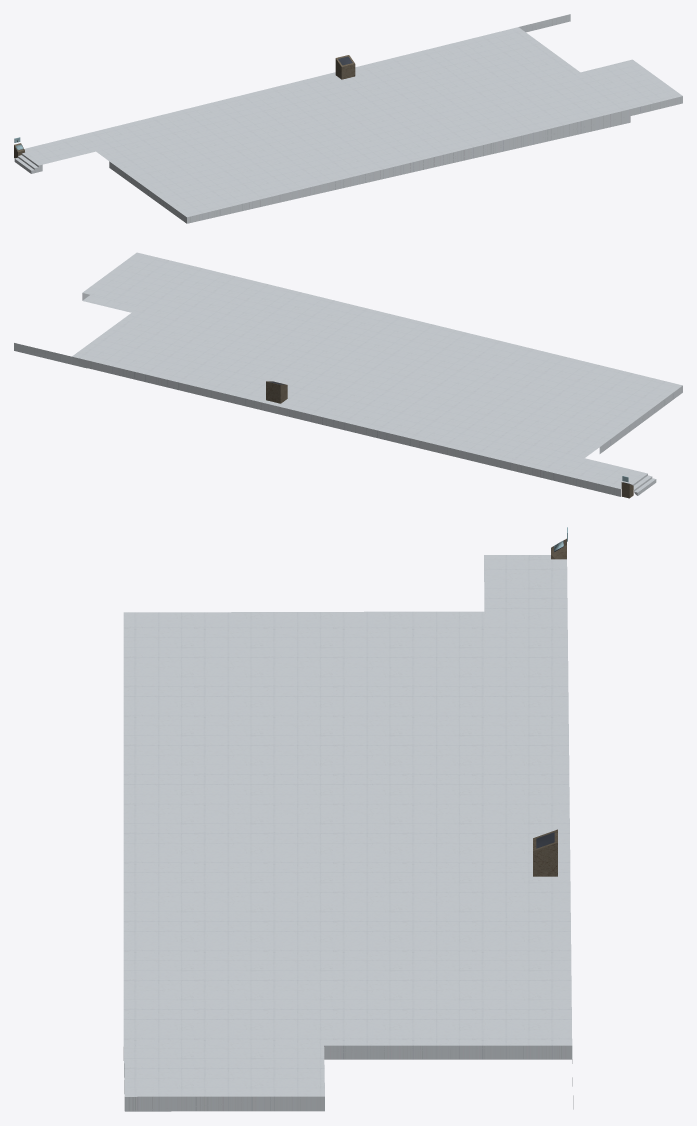
Rendered from tempPisoOP.glb.
3 renders of one model, top to bottom at view 1: azimuth 30°, elevation 25°; view 2: azimuth 150°, elevation 25°; view 3: azimuth 270°, elevation 25°, orthographic. The views are drawn at different scales.
Visible parts, largest first — view 1: Piso_Entrada; view 2: Piso_Entrada; view 3: Piso_Entrada.
Part boxes in pixels (x1=…): Piso_Entrada: x1=14, y1=14, x2=682, y2=223; Piso_Entrada: x1=14, y1=252, x2=682, y2=498; Piso_Entrada: x1=123, y1=527, x2=573, y2=1111.
Bounding box in the file's own units: 0.4754 × 0.0247 × 0.1646.
Materials: 5 (5 with a texture image).
